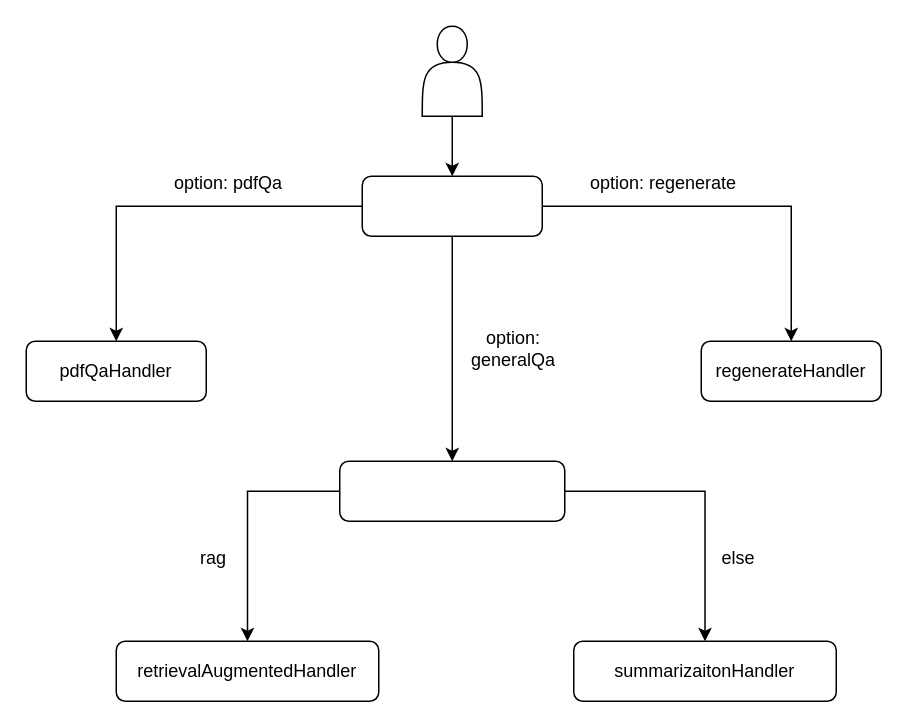
This 908x728 diagram has some shape labels left out. Each missing label, with the centre of its shape:
Prompt: point 451,205
promptClassifierHandeler: point 451,490
